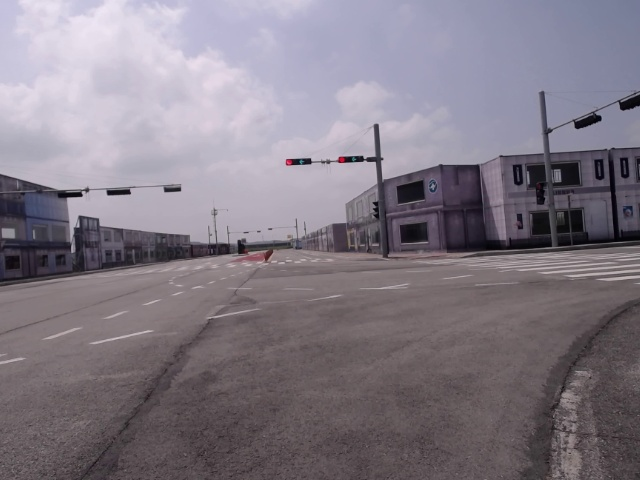left_green_4: (339, 157, 364, 163), (286, 160, 311, 165)
